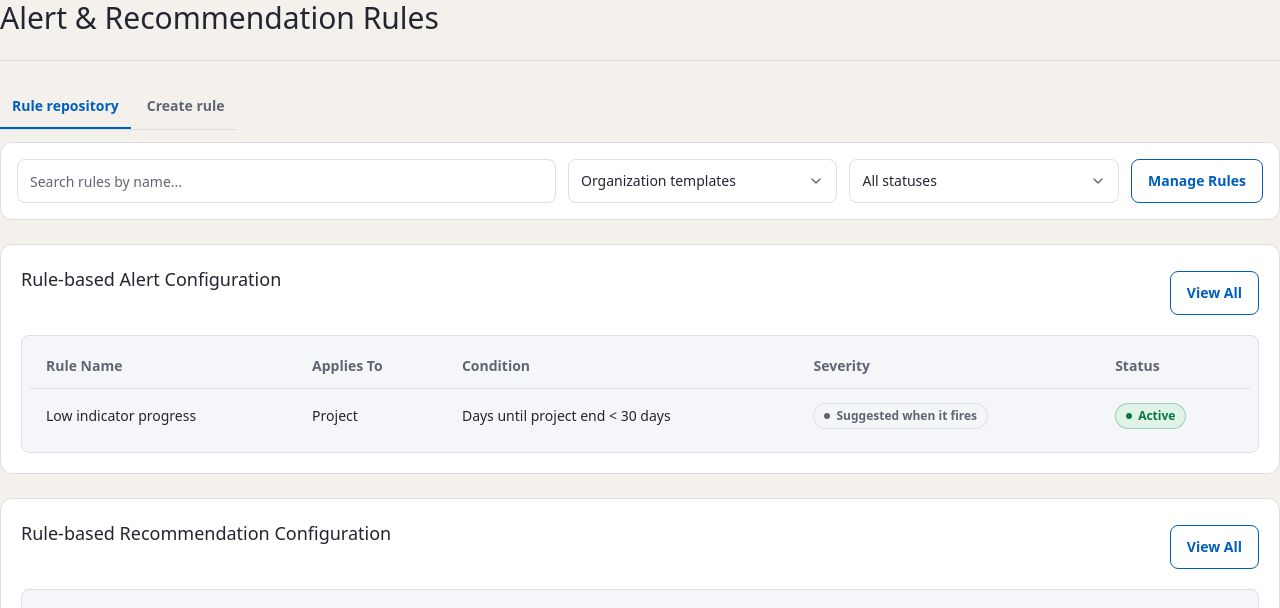
Test case: RulesBoard › uses the alert library in the recommendation-rule creation flow
This screenshot has width=1280, height=608.
Press the mouse on the tab "Create rule" at (186, 107), box [135, 85, 237, 129]
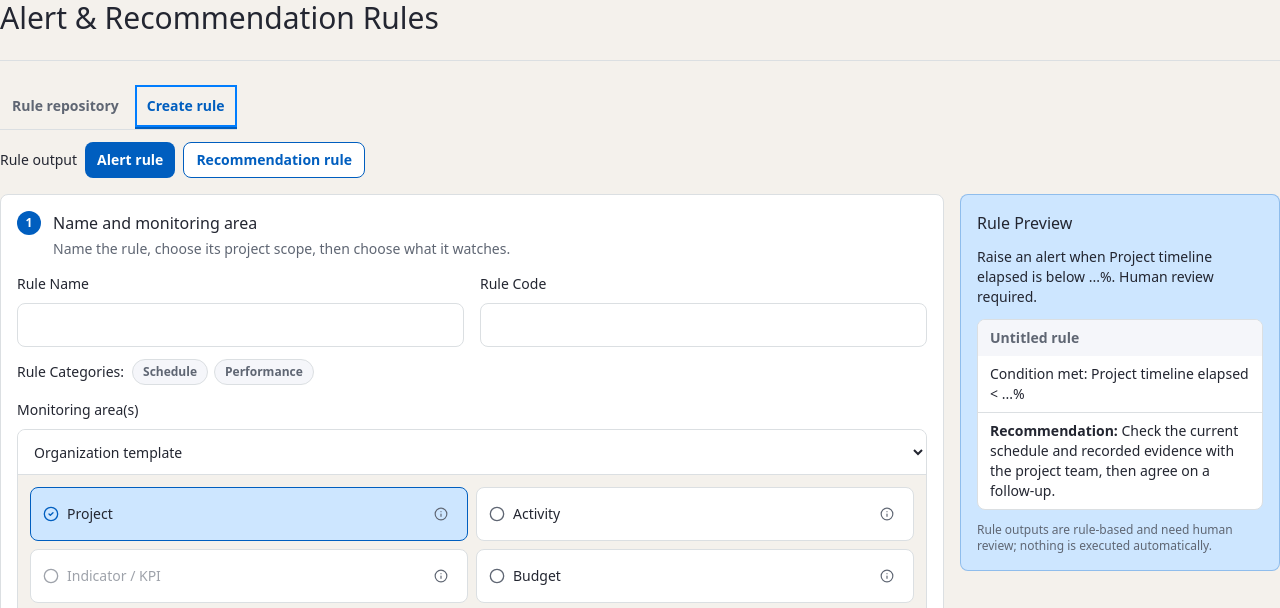
Click the button "Recommendation rule" at (274, 160), box [183, 142, 365, 178]
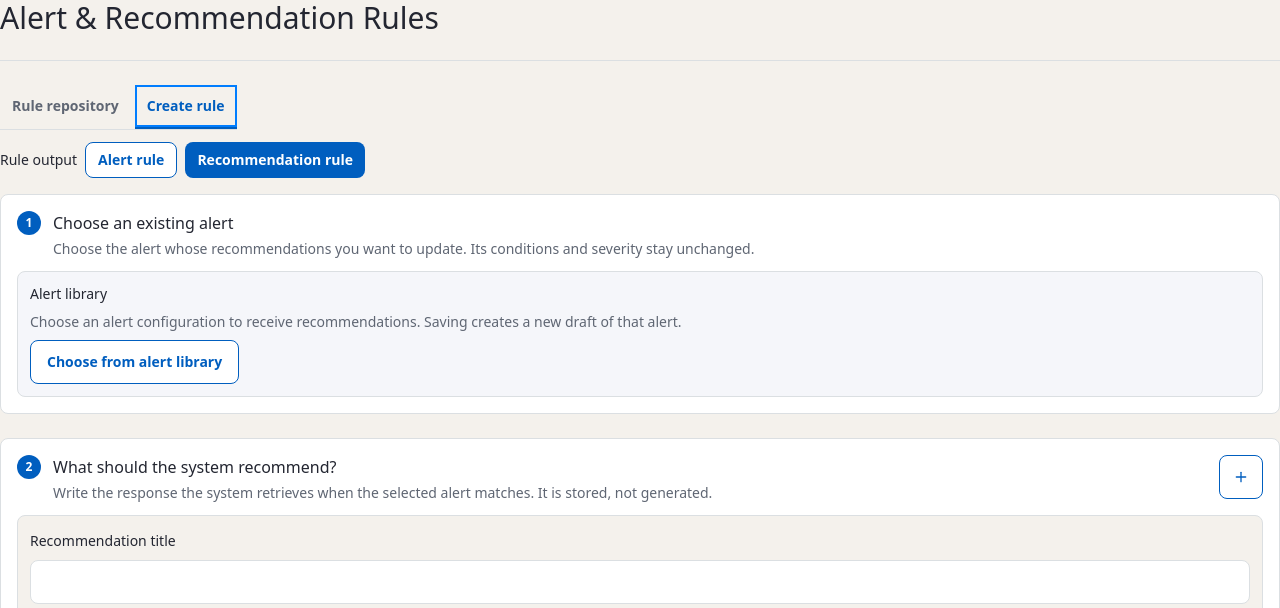
Expected: the heading "Choose an existing alert" is shown, [53, 212, 234, 234]
Click the button "Choose from alert library" at (135, 362), box [30, 340, 239, 384]
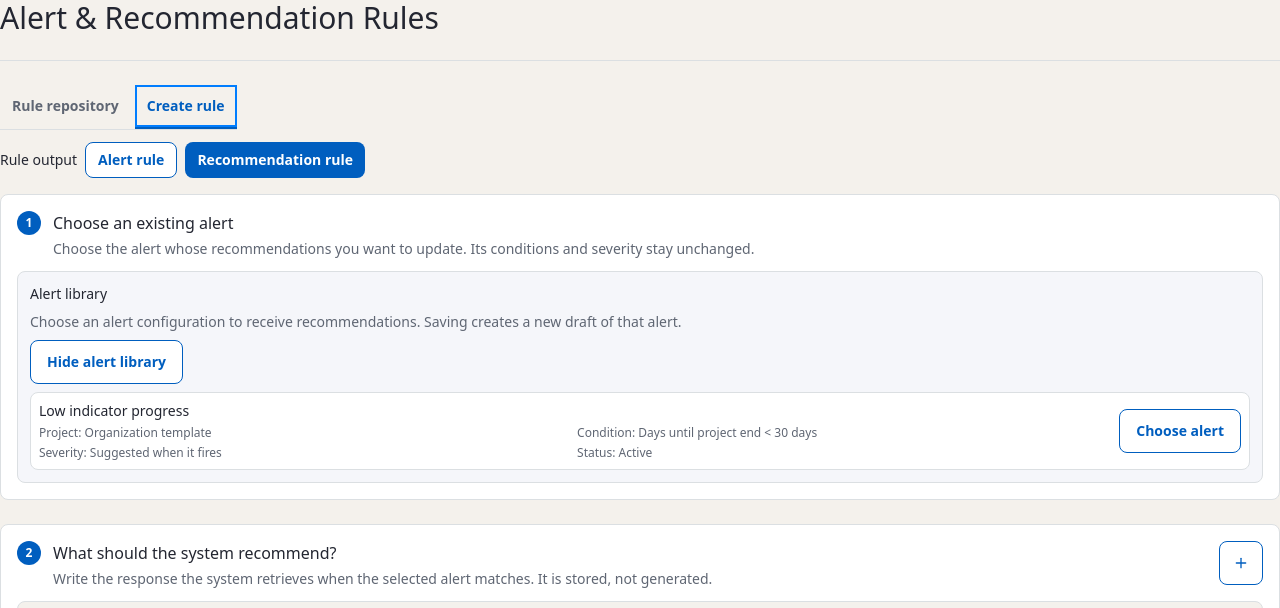
Expected: the button "Choose alert" is shown, [1119, 409, 1241, 453]
